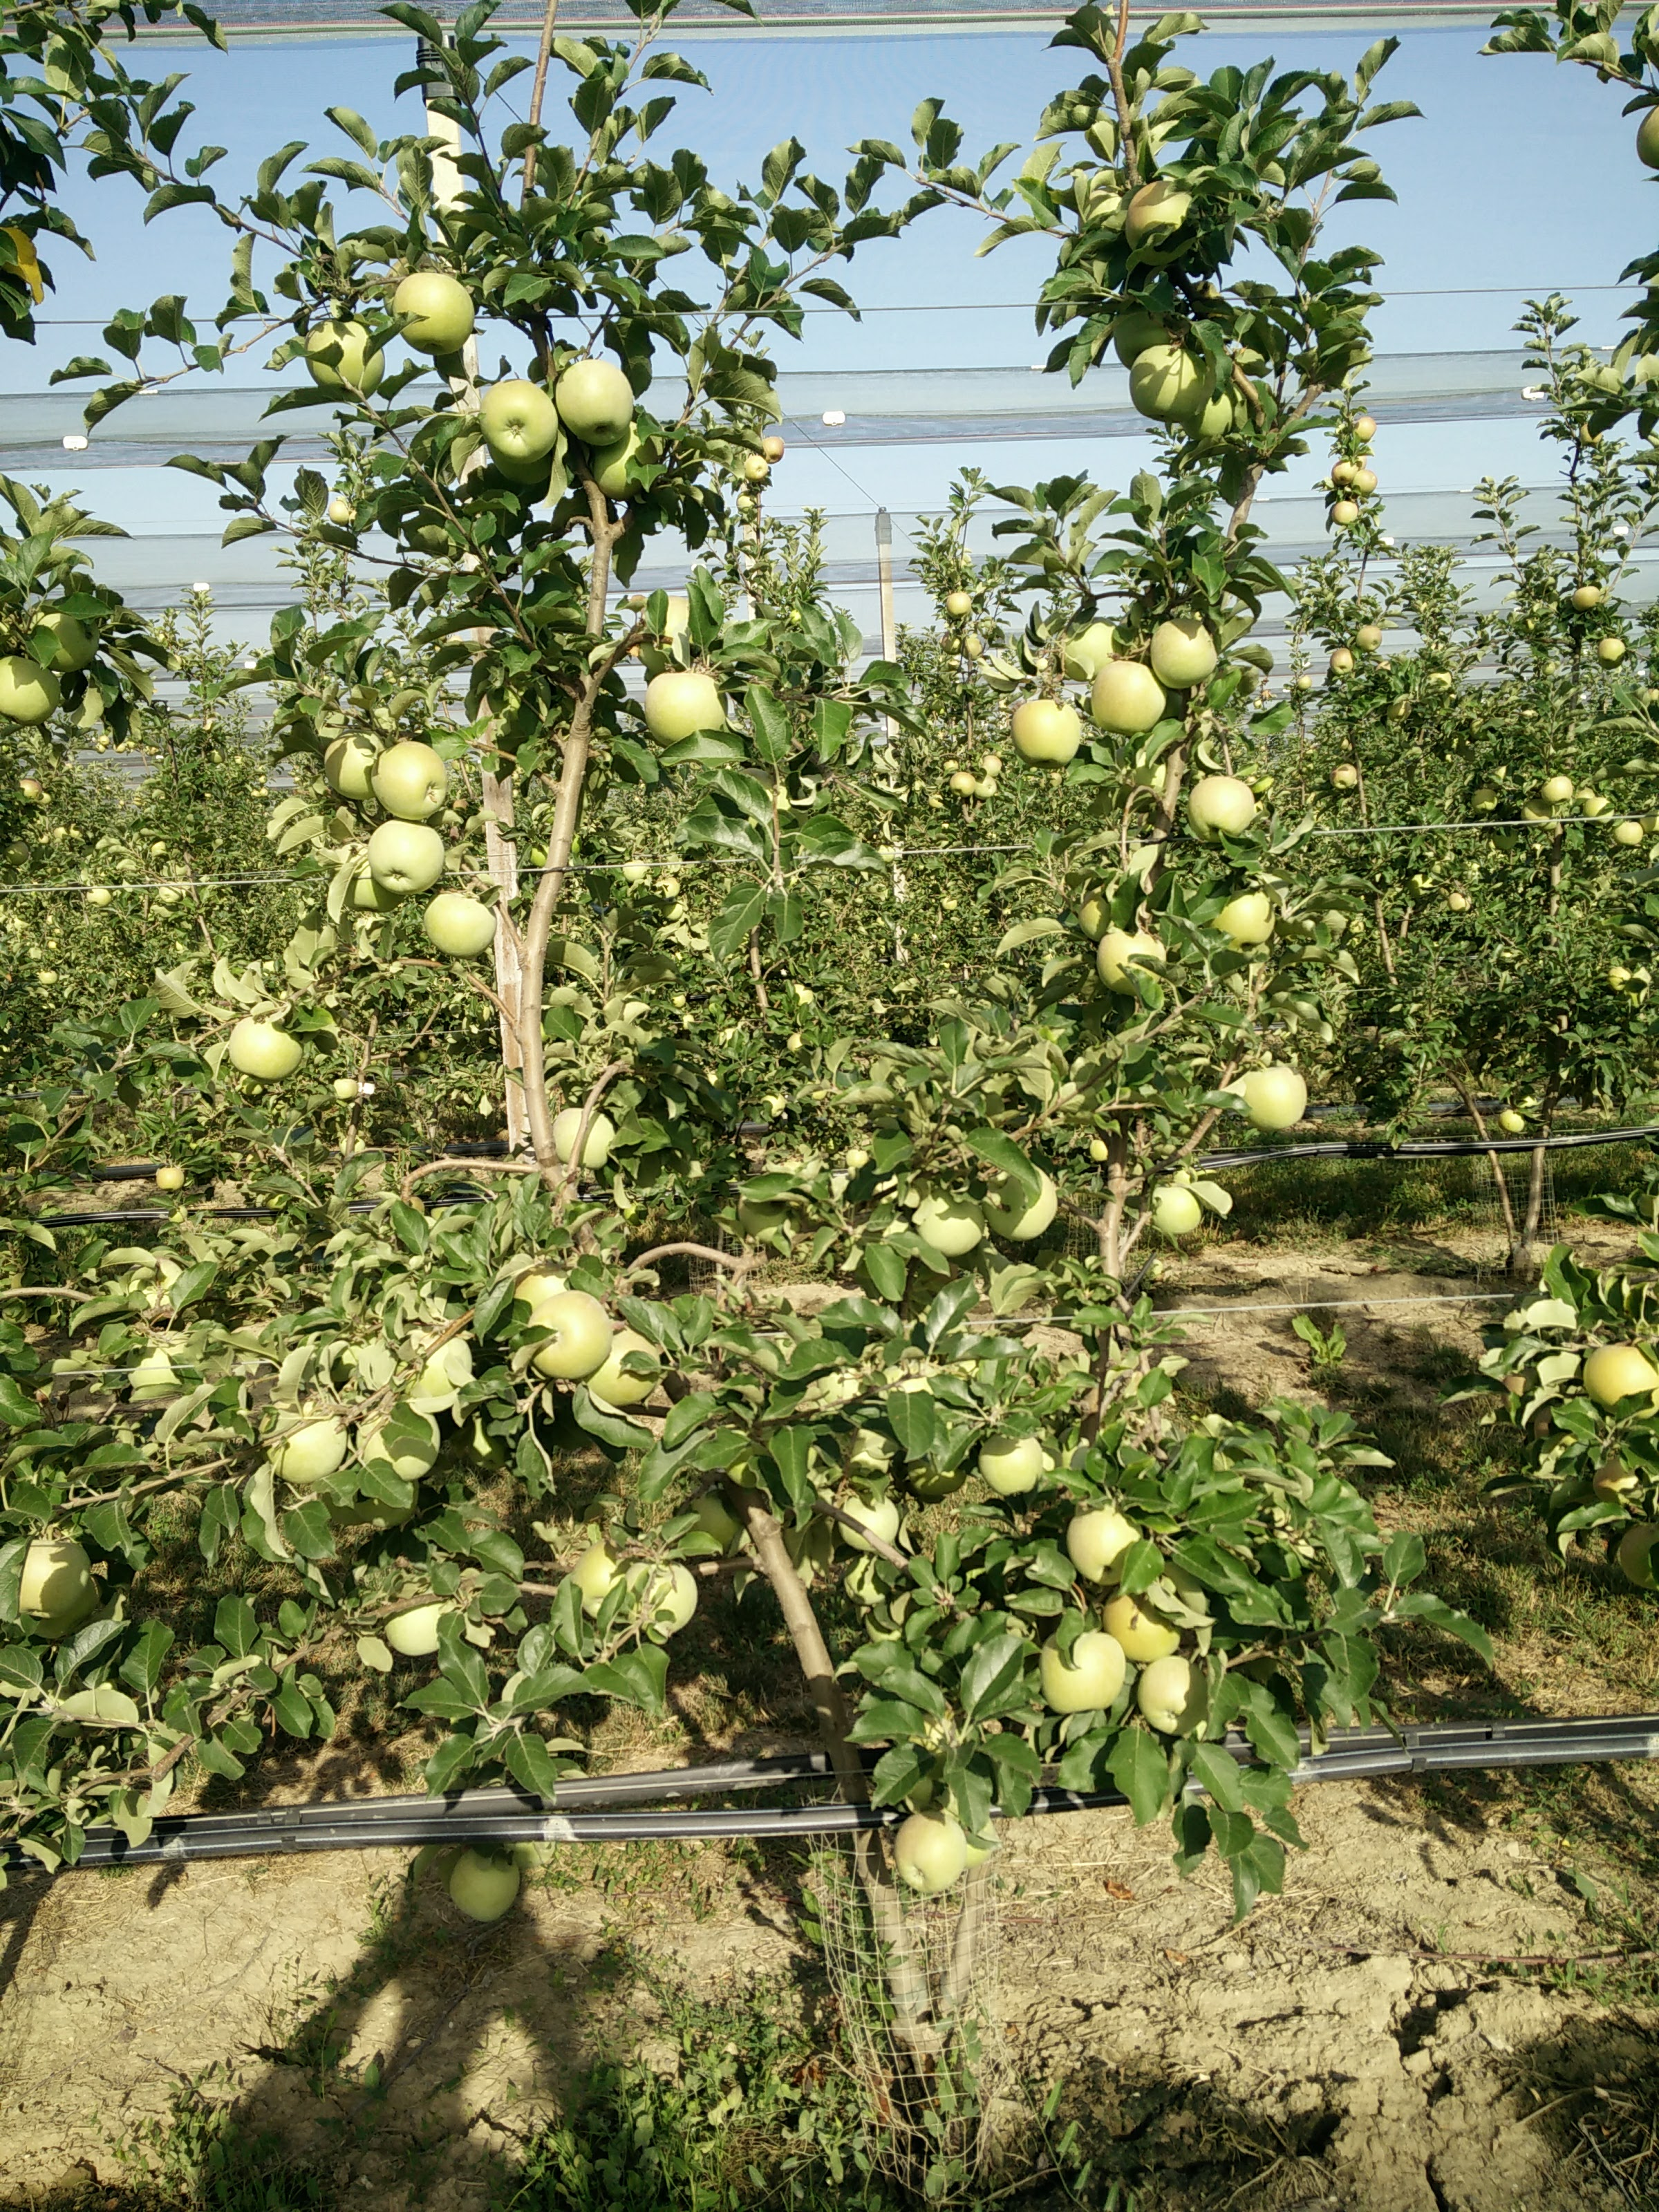apple: (520, 1292, 615, 1378), (388, 271, 477, 357), (1125, 339, 1212, 424), (639, 669, 731, 751), (300, 319, 386, 403), (474, 377, 557, 464), (257, 1398, 347, 1480), (1123, 179, 1206, 265), (1039, 1630, 1130, 1709), (552, 359, 632, 444), (364, 740, 452, 818), (1086, 653, 1168, 735), (1067, 1499, 1143, 1587), (1582, 1338, 1659, 1421), (573, 1539, 648, 1625), (418, 881, 498, 959), (361, 821, 443, 894), (1232, 1060, 1315, 1132), (440, 1848, 522, 1923), (1004, 695, 1086, 769), (894, 1810, 964, 1895), (983, 1166, 1060, 1242), (317, 727, 393, 800), (226, 1010, 304, 1080), (1187, 771, 1262, 843), (1148, 617, 1219, 691), (1206, 884, 1277, 957), (1094, 928, 1168, 999), (912, 1184, 984, 1256), (1, 653, 64, 727), (977, 1430, 1044, 1495), (549, 1107, 617, 1169)
